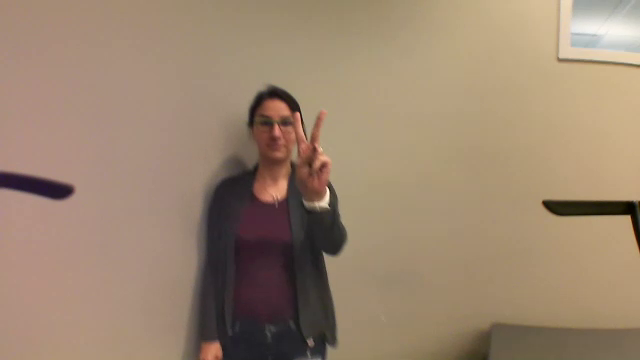peace: (283, 105, 342, 196)
